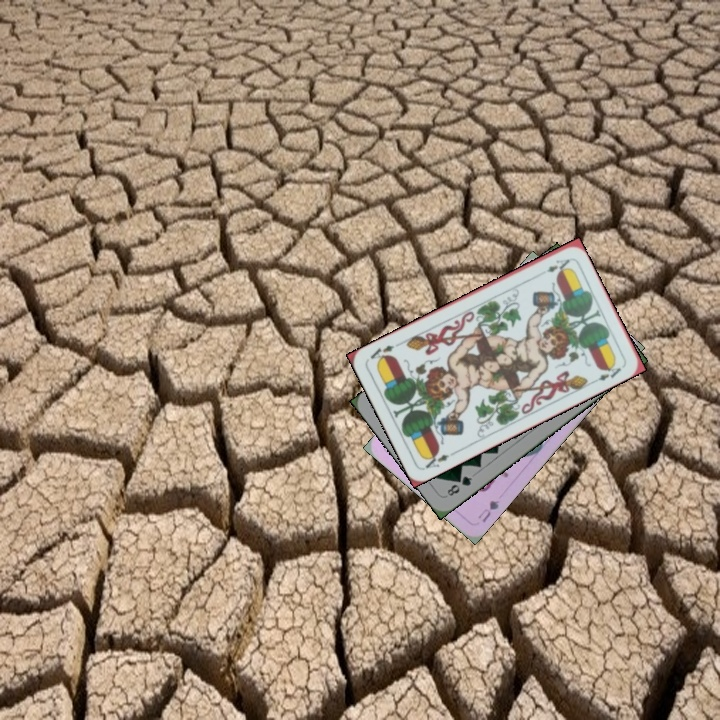EA: (420, 447, 458, 471), (543, 255, 572, 275)
G8: (443, 472, 475, 499)
GU: (474, 496, 502, 525)
